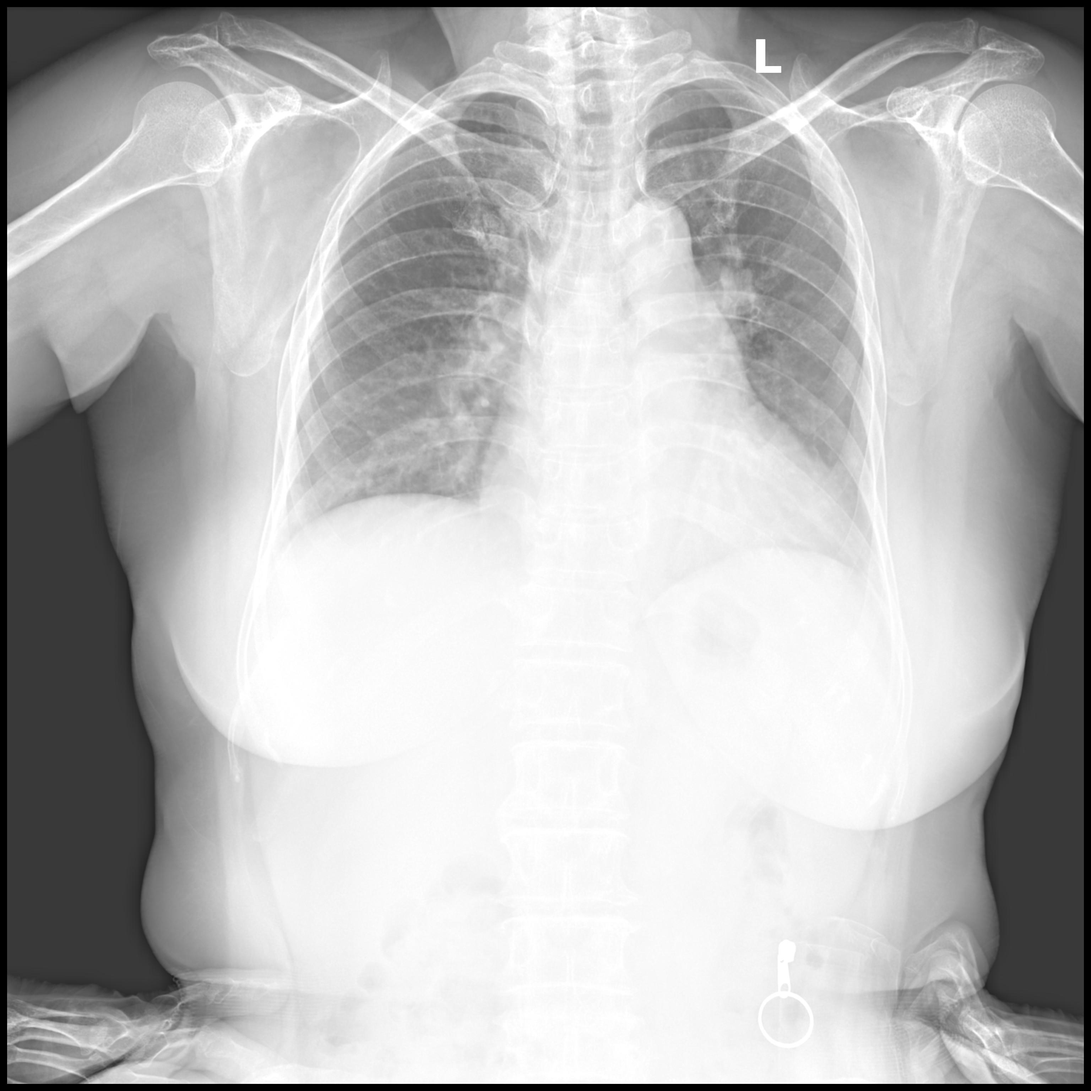Aortic enlargement: (618, 195, 693, 270)
Cardiomegaly: (479, 421, 853, 583)
Pleural thickening: (252, 489, 298, 601), (869, 525, 915, 611)
Pulmonary fibrosis: (671, 175, 772, 243)
